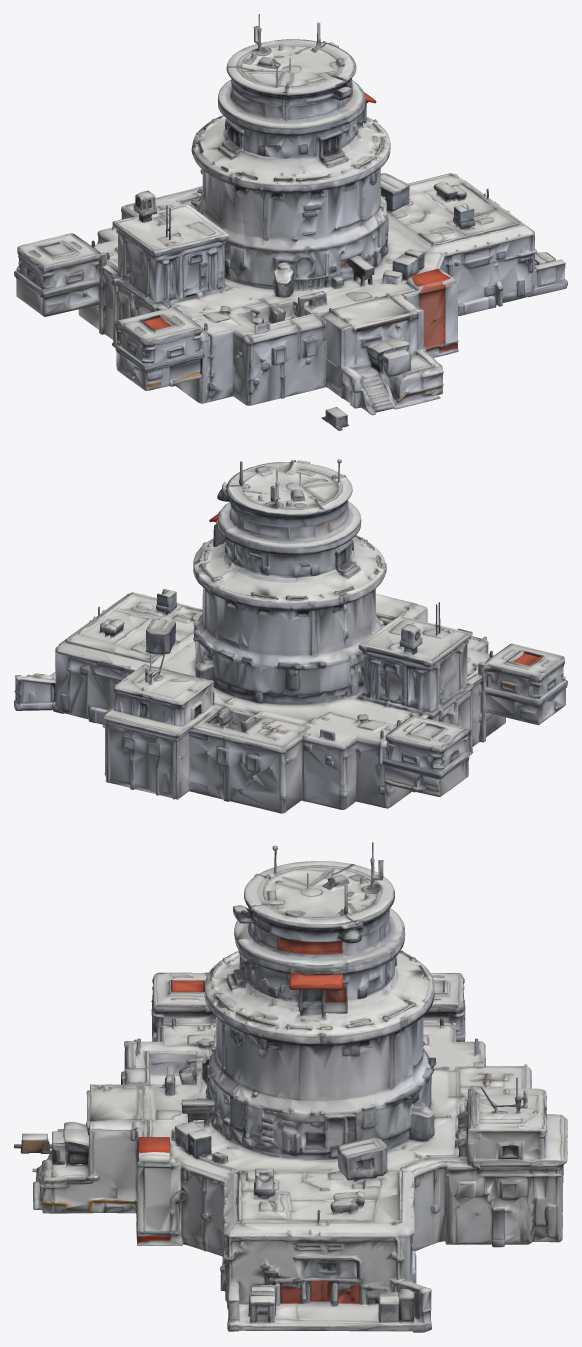
File: base-red.glb
3 renders of one model, top to bottom at view 1: azimuth 30°, elevation 25°; view 2: azimuth 150°, elevation 25°; view 3: azimuth 270°, elevation 25°, orthographic. The views are drawn at different scales.
Visible parts, largest first — view 1: tripo_node_a653c096-8c46-41d3-b20c-09cb07a2a43f; view 2: tripo_node_a653c096-8c46-41d3-b20c-09cb07a2a43f; view 3: tripo_node_a653c096-8c46-41d3-b20c-09cb07a2a43f.
Boxes of the visible parts, bbox=[...] form: tripo_node_a653c096-8c46-41d3-b20c-09cb07a2a43f: bbox=[14, 14, 567, 430]; tripo_node_a653c096-8c46-41d3-b20c-09cb07a2a43f: bbox=[14, 459, 567, 813]; tripo_node_a653c096-8c46-41d3-b20c-09cb07a2a43f: bbox=[14, 842, 567, 1332].
Bounding box in the file's own units: 0.9998 × 0.6053 × 0.8794.
Materials: 1 (1 with a texture image).
